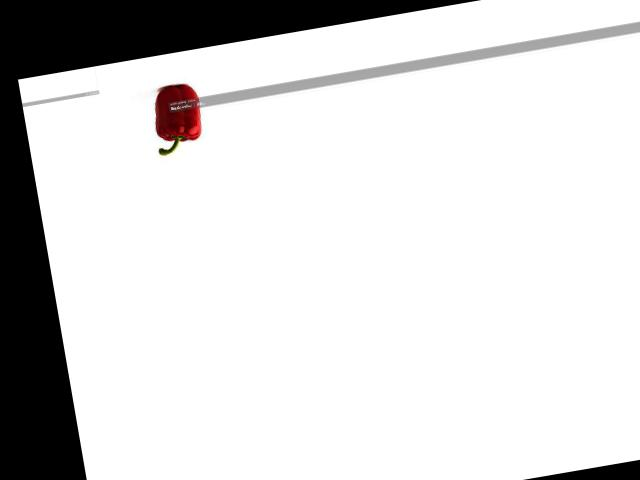bell_pepper: (142, 82, 211, 160)
